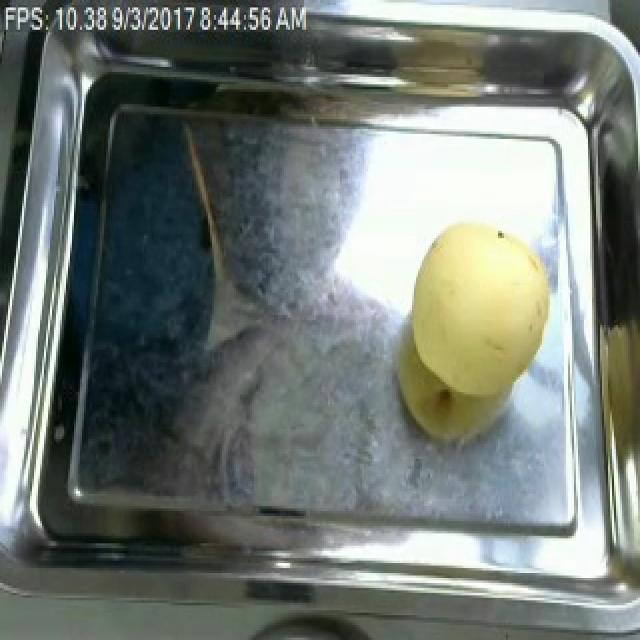Fruit: (394, 208, 562, 420)
